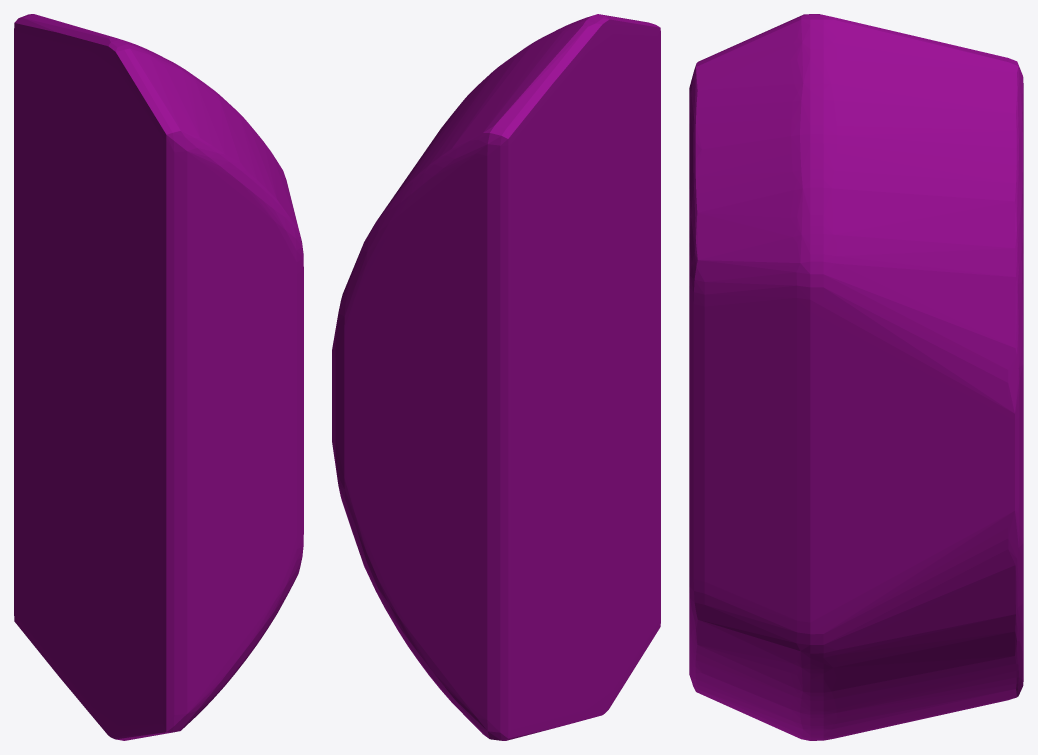
The model's file is right_forearm_1_part_14.obj.
3 views of the same model, side by side, from view 1: azimuth 30°, elevation 25°; view 2: azimuth 150°, elevation 25°; view 3: azimuth 270°, elevation 25° (orthographic). The views are drawn at different scales.
Size of the model in its own units: 35.16 by 132 by 55.64.
